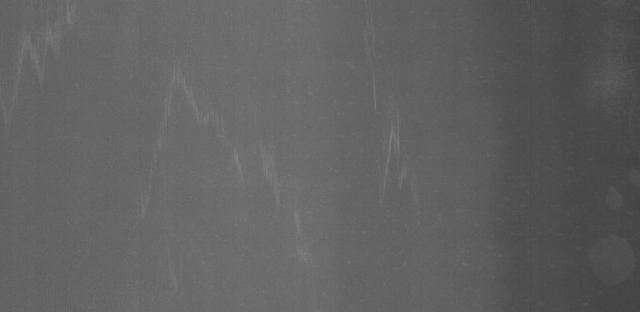silk_spot: (346, 69, 431, 208), (215, 127, 302, 206), (146, 70, 233, 139)
